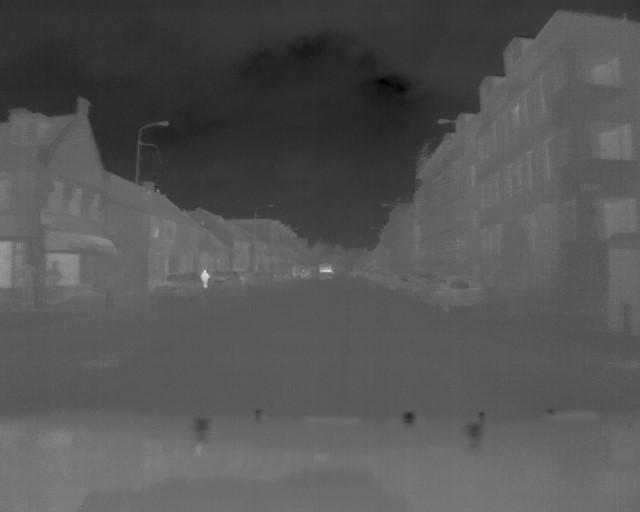car: (420, 273, 488, 316), (148, 271, 203, 304), (210, 267, 243, 294)
person: (199, 267, 210, 293)
